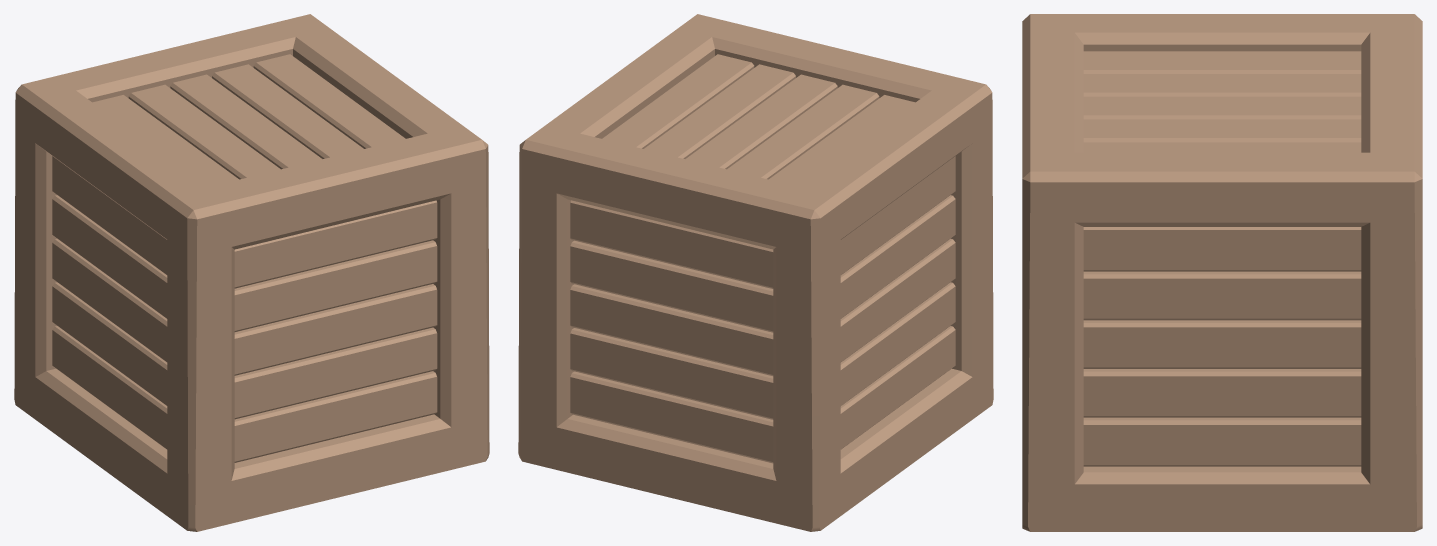
File: caja.fbx
The picture shows the model from 3 angles, left to right: view 1: azimuth 30°, elevation 25°; view 2: azimuth 150°, elevation 25°; view 3: azimuth 270°, elevation 25°; orthographic projection. The views are drawn at different scales.
Parts seen in each view (by area): view 1: caja_estructura, pCube31 (×3), pCube30 (×3), pCube32 (×3), pCube29 (×3), pCube33 (×3); view 2: caja_estructura, pCube31 (×3), pCube30 (×3), pCube32 (×3), pCube29 (×3), pCube33 (×3); view 3: caja_estructura, pCube32 (×2), pCube29 (×2), pCube31 (×2), pCube30 (×2), pCube33 (×2).
Boxes of the visible parts, left/top/right/bottom form: caja_estructura: left=14, top=14, right=489, bottom=531; pCube31 (×3): left=52, top=74, right=437, bottom=375; pCube30 (×3): left=52, top=84, right=437, bottom=419; pCube32 (×3): left=52, top=64, right=437, bottom=331; pCube29 (×3): left=52, top=95, right=437, bottom=462; pCube33 (×3): left=52, top=54, right=437, bottom=288; caja_estructura: left=518, top=14, right=993, bottom=531; pCube31 (×3): left=570, top=74, right=955, bottom=375; pCube30 (×3): left=570, top=84, right=955, bottom=419; pCube32 (×3): left=570, top=64, right=955, bottom=332; pCube29 (×3): left=570, top=95, right=955, bottom=463; pCube33 (×3): left=570, top=54, right=955, bottom=288; caja_estructura: left=1022, top=14, right=1422, bottom=531; pCube32 (×2): left=1083, top=119, right=1361, bottom=320; pCube29 (×2): left=1083, top=51, right=1361, bottom=466; pCube31 (×2): left=1083, top=96, right=1361, bottom=368; pCube30 (×2): left=1083, top=74, right=1361, bottom=417; pCube33 (×2): left=1083, top=142, right=1361, bottom=271.
Bounding box in the file's own units: 0.6321 × 0.6401 × 0.6508.
